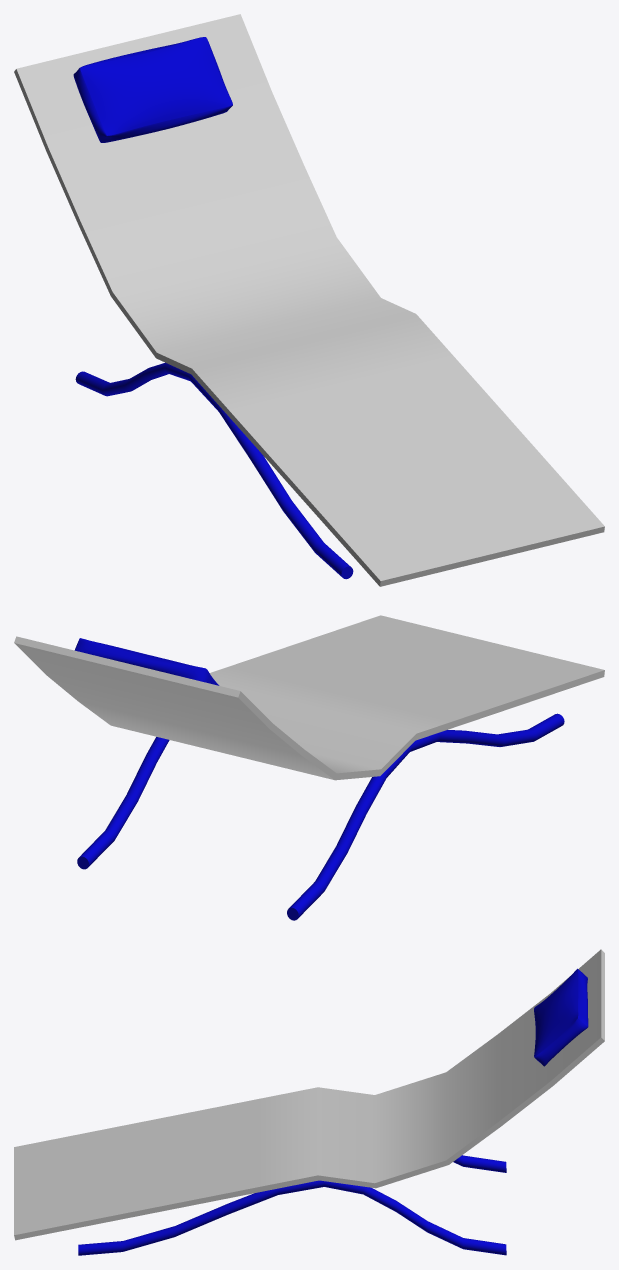
Rendered from Hamaca.fbx.
3 renders of one model, top to bottom at view 1: azimuth 30°, elevation 25°; view 2: azimuth 150°, elevation 25°; view 3: azimuth 270°, elevation 25°, orthographic. The views are drawn at different scales.
Visible parts, largest first — view 1: Box001, Box002, Cylinder001; view 2: Box001, Cylinder001, Cylinder002, Box002; view 3: Box001, Cylinder002, Box002, Cylinder001.
Part boxes in pixels (bbox=[...]): Box001: bbox=[14, 14, 604, 586]; Box002: bbox=[73, 37, 232, 142]; Cylinder001: bbox=[75, 362, 353, 579]; Box001: bbox=[14, 615, 604, 780]; Cylinder001: bbox=[287, 713, 564, 920]; Cylinder002: bbox=[77, 737, 169, 869]; Box002: bbox=[74, 638, 219, 685]; Box001: bbox=[14, 949, 604, 1240]; Cylinder002: bbox=[78, 1180, 506, 1255]; Box002: bbox=[534, 968, 588, 1066]; Cylinder001: bbox=[453, 1155, 506, 1172].
Bounding box in the file's own units: 47.06 × 55.02 × 133.
